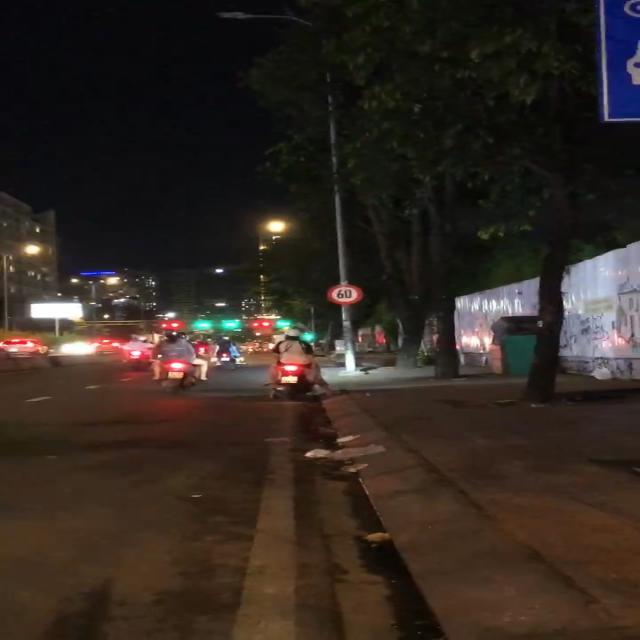Bien bao toc do toi da cho phep: (322, 284, 371, 306)
